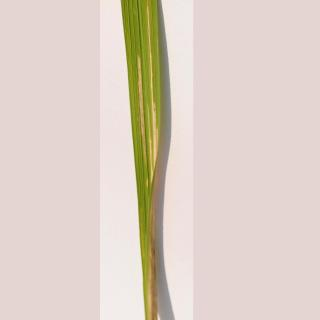Hawar-Daun: (119, 55, 177, 286)
